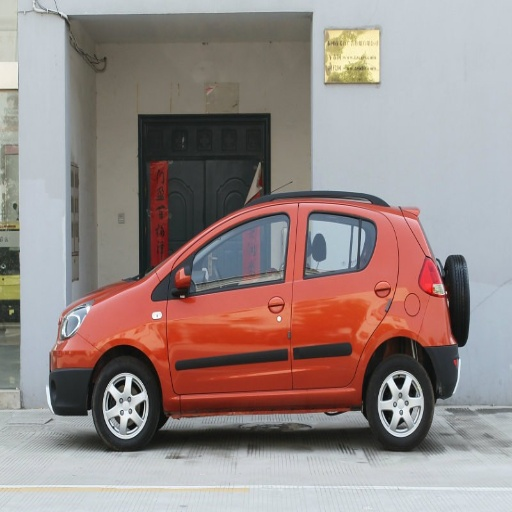back_left_door: (290, 202, 393, 389)
front_left_door: (169, 203, 297, 409)
